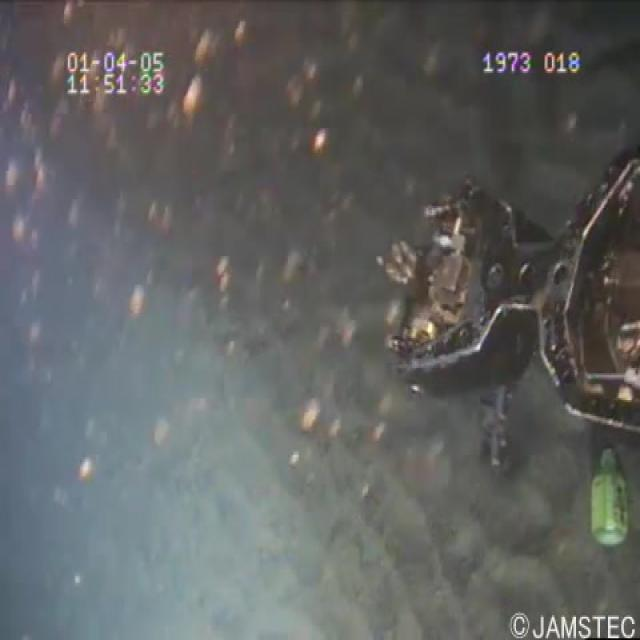plastic: (581, 439, 632, 549)
